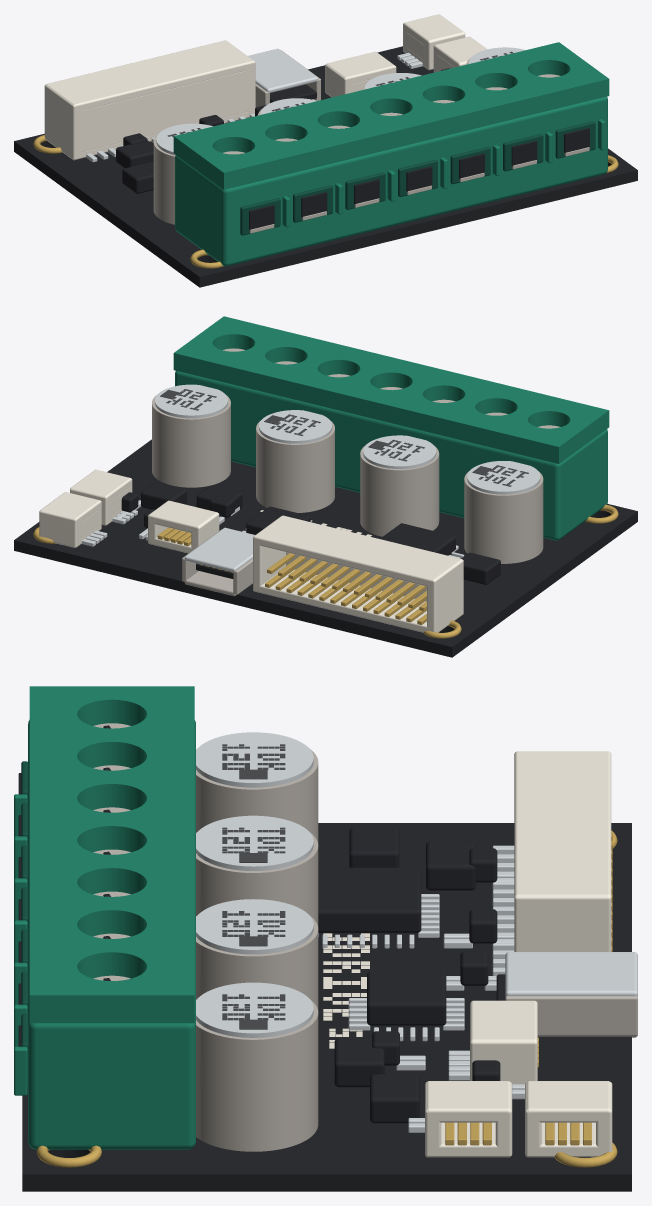
Rendered from boards-27.glb.
The picture shows the model from 3 angles, top to bottom: view 1: azimuth 30°, elevation 25°; view 2: azimuth 150°, elevation 25°; view 3: azimuth 270°, elevation 25°; orthographic projection. The views are drawn at different scales.
Visible parts, largest first — view 1: terminal, pcb, interface, capacitors, can, usb, debug; view 2: terminal, capacitors, pcb, interface, can, usb, debug, logic; view 3: terminal, pcb, capacitors, interface, logic, can, usb, debug.
Part boxes in pixels (x1,y1,x2,y2): terminal: [173, 42, 609, 266]; pcb: [14, 46, 637, 287]; interface: [44, 40, 255, 162]; capacitors: [153, 47, 525, 224]; can: [397, 14, 486, 72]; usb: [248, 48, 320, 107]; debug: [325, 51, 396, 97]; terminal: [173, 316, 609, 540]; capacitors: [152, 384, 543, 563]; pcb: [14, 439, 637, 657]; interface: [253, 515, 463, 632]; can: [39, 469, 137, 547]; usb: [182, 527, 254, 596]; debug: [148, 500, 219, 553]; logic: [242, 506, 464, 558]; terminal: [14, 686, 195, 1149]; pcb: [22, 823, 631, 1191]; capacitors: [196, 732, 318, 1151]; interface: [492, 751, 612, 975]; logic: [318, 867, 464, 1041]; can: [425, 1081, 612, 1157]; usb: [496, 952, 637, 1037]; debug: [448, 1000, 538, 1084].
Bounding box in the file's own units: 2.82 × 0.659 × 2.12.
